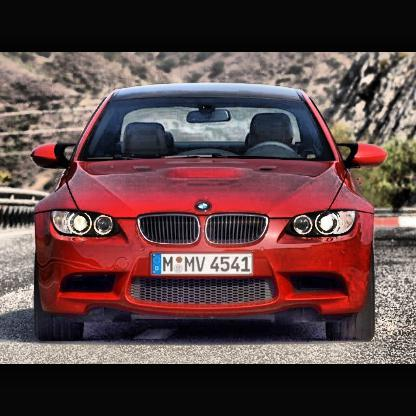BMW M3 Coupe 2012: (32, 85, 388, 345)
